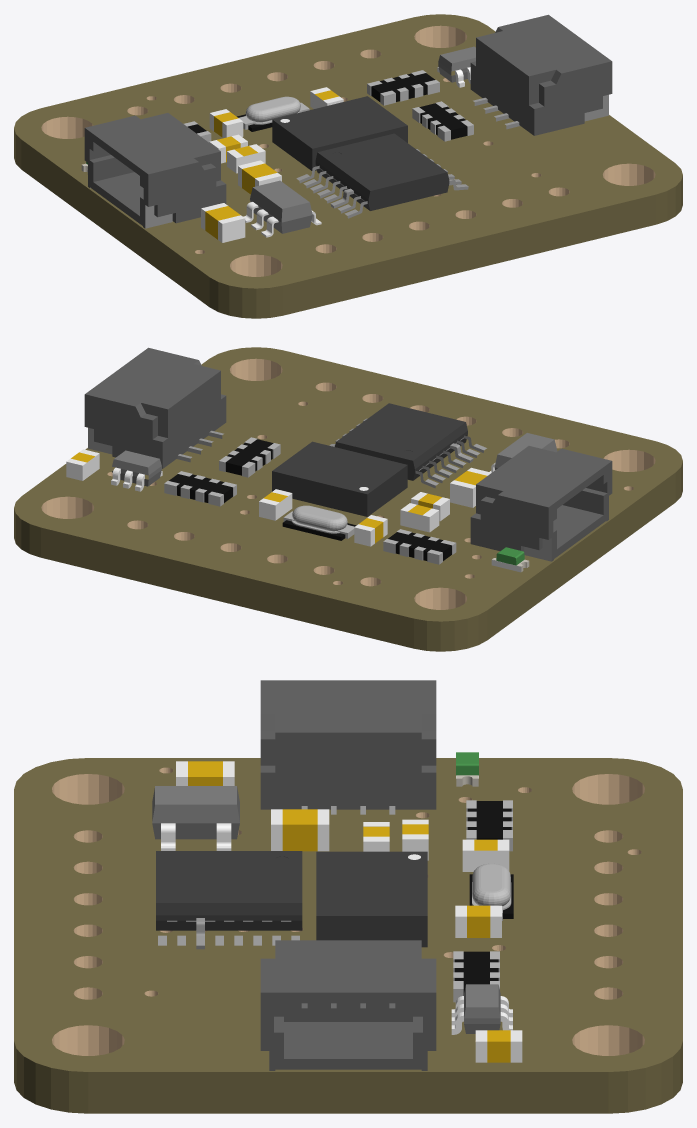
File: bno085.glb
3 renders of one model, top to bottom at view 1: azimuth 30°, elevation 25°; view 2: azimuth 150°, elevation 25°; view 3: azimuth 270°, elevation 25°, orthographic. The views are drawn at different scales.
Parts seen in each view (by area): view 1: farbe_0, farbe_6, farbe_5, farbe_1, farbe_2, farbe_12, farbe_4, farbe_3, farbe_8, farbe_11; view 2: farbe_0, farbe_6, farbe_5, farbe_1, farbe_2, farbe_4, farbe_8, farbe_3, farbe_12, farbe_11; view 3: farbe_0, farbe_6, farbe_5, farbe_1, farbe_2, farbe_12, farbe_11, farbe_4, farbe_8, farbe_3.
Part boxes in pixels (x1,y1,x2,y2): farbe_0: (14, 14, 682, 318); farbe_6: (84, 14, 612, 228); farbe_5: (272, 96, 449, 210); farbe_1: (41, 25, 655, 276); farbe_2: (201, 67, 470, 242); farbe_12: (250, 46, 475, 233); farbe_4: (184, 70, 473, 142); farbe_3: (90, 94, 608, 228); farbe_8: (187, 73, 467, 139); farbe_11: (205, 90, 338, 239); farbe_0: (14, 347, 682, 651); farbe_6: (84, 347, 612, 561); farbe_5: (272, 403, 467, 516); farbe_1: (41, 358, 655, 609); farbe_2: (66, 449, 495, 546); farbe_4: (164, 437, 456, 564); farbe_8: (169, 439, 451, 560); farbe_3: (88, 418, 606, 561); farbe_12: (112, 433, 557, 486); farbe_11: (71, 452, 486, 543); farbe_0: (14, 758, 682, 1113); farbe_6: (260, 680, 436, 1070); farbe_5: (156, 851, 427, 947); farbe_1: (52, 767, 644, 1055); farbe_2: (161, 761, 522, 1062); farbe_12: (152, 786, 500, 1033); farbe_11: (188, 761, 510, 1062); farbe_4: (453, 800, 512, 1002); farbe_8: (454, 801, 513, 995); farbe_3: (158, 806, 395, 1008).
Bounding box in the file's own units: 25.4 × 4.53 × 22.86.
